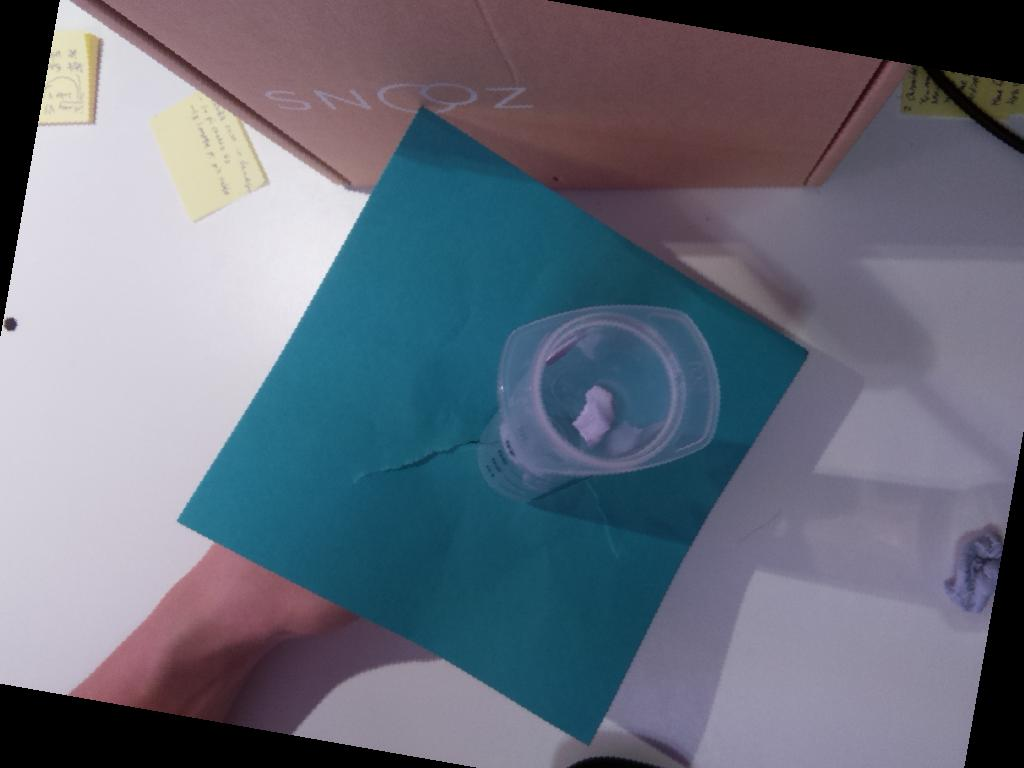dirty: (497, 303, 719, 474)
